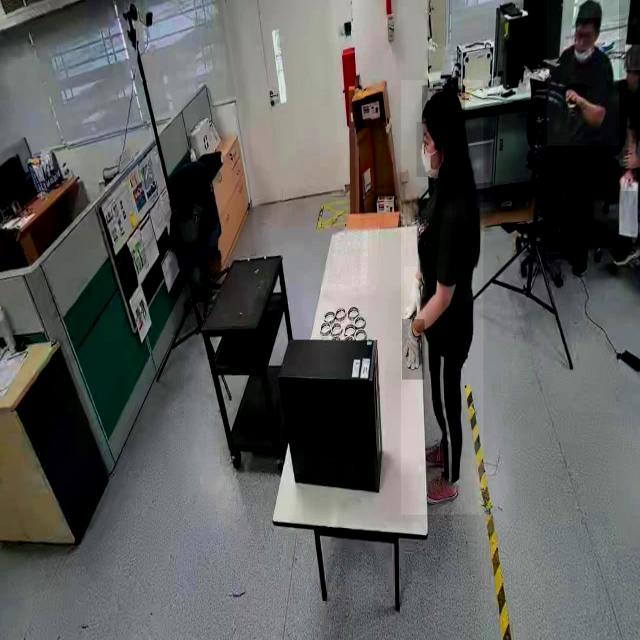face_mask: (416, 122, 442, 177)
hand_glove: (402, 319, 424, 381), (404, 266, 426, 324)
hand_noglove: (563, 85, 587, 111), (622, 147, 638, 169), (622, 171, 636, 192)
head_nohelmet: (421, 86, 465, 124), (577, 0, 603, 19), (624, 45, 640, 71)
person: (401, 80, 484, 516), (546, 0, 619, 147)
